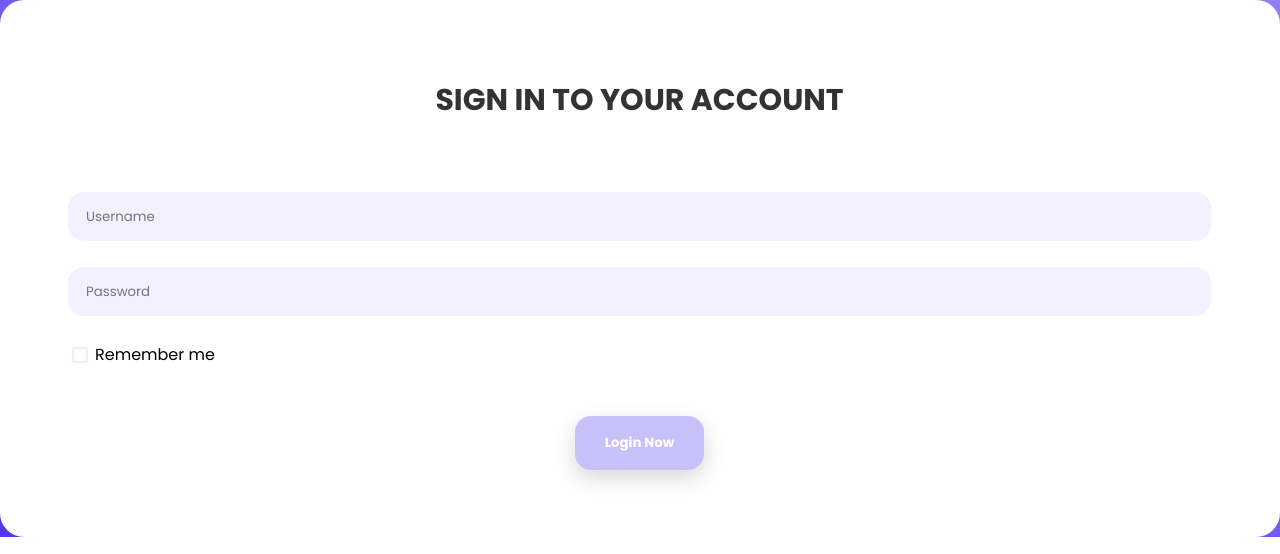
Test case: SignInToast › Login button › when email and password are valid › enables the button
Type "validEmail@gmail.com" into the field with placeholder "Username". click: {"x": 640, "y": 216}
box: [68,192,1211,241]
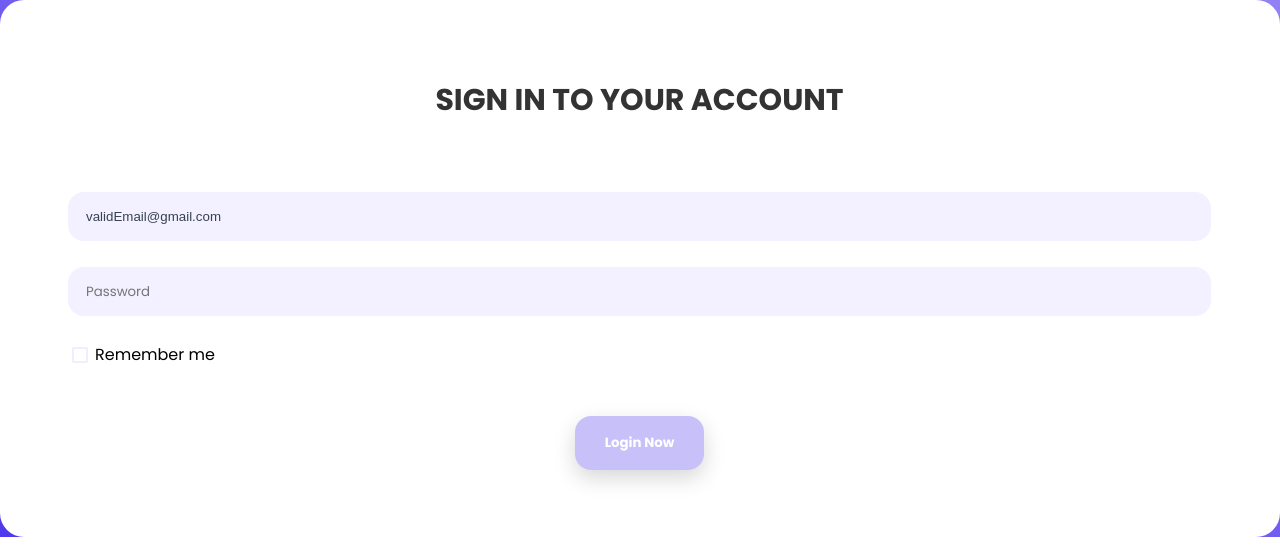
Type "validPassword1" into the password field with placeholder "Password". click: {"x": 640, "y": 292}
box: [68,267,1211,316]
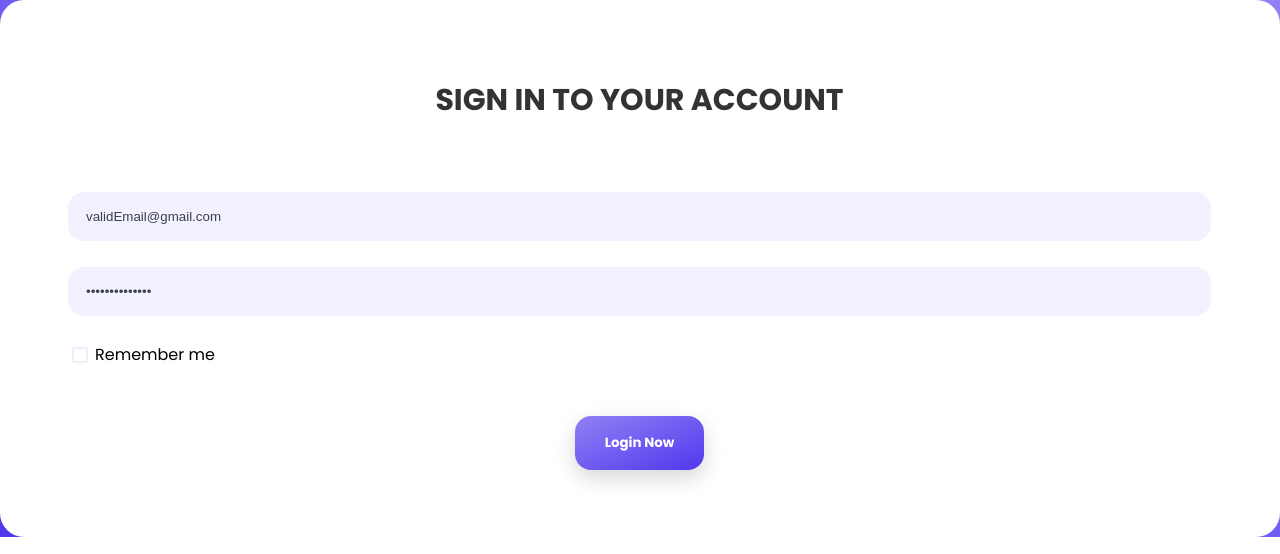
Check: the button "Login Now" is enabled, box [575,416,704,470]
